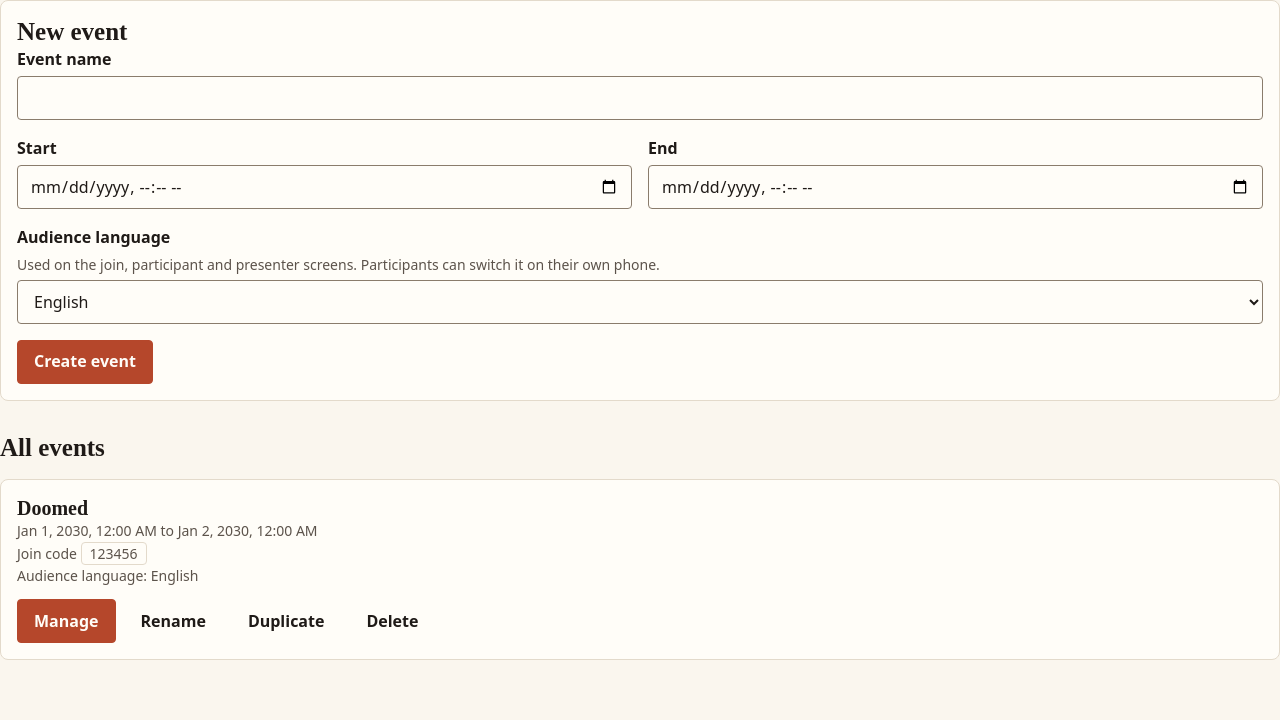
Test: EventManager › keeps the dialog open and shows the server error when the delete fails
Click the button "Delete".
click(392, 621)  # box [349,599,435,643]
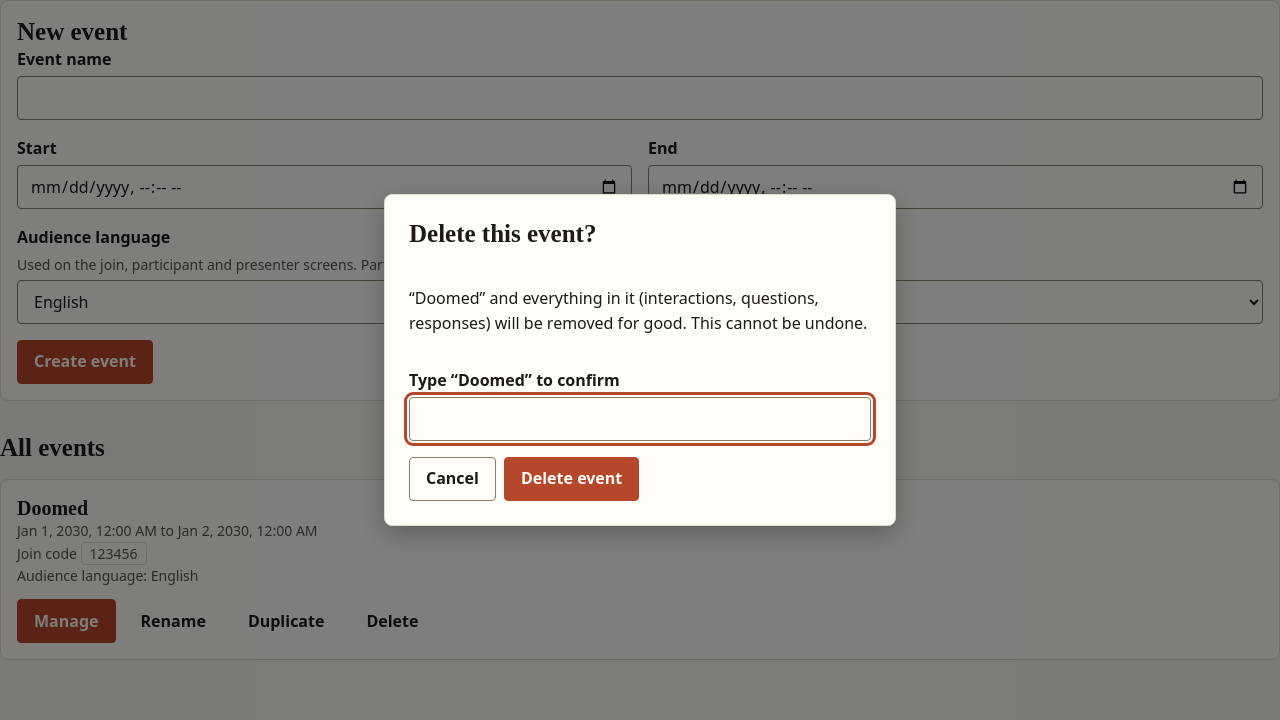
Type "Doomed" into the field labelled "Type “Doomed” to confirm".
click(640, 419); type("Doomed")  # box [409,397,871,441]
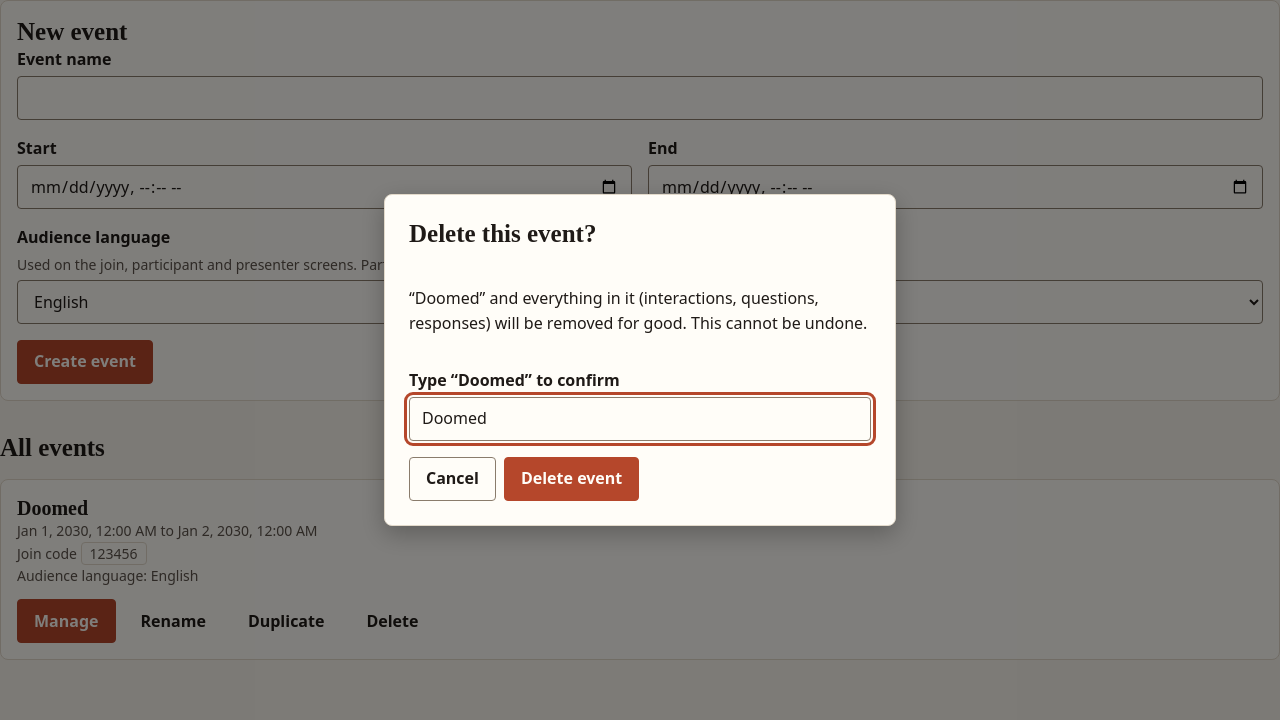
Click the button "Delete event".
click(572, 479)  # box [504,457,639,501]
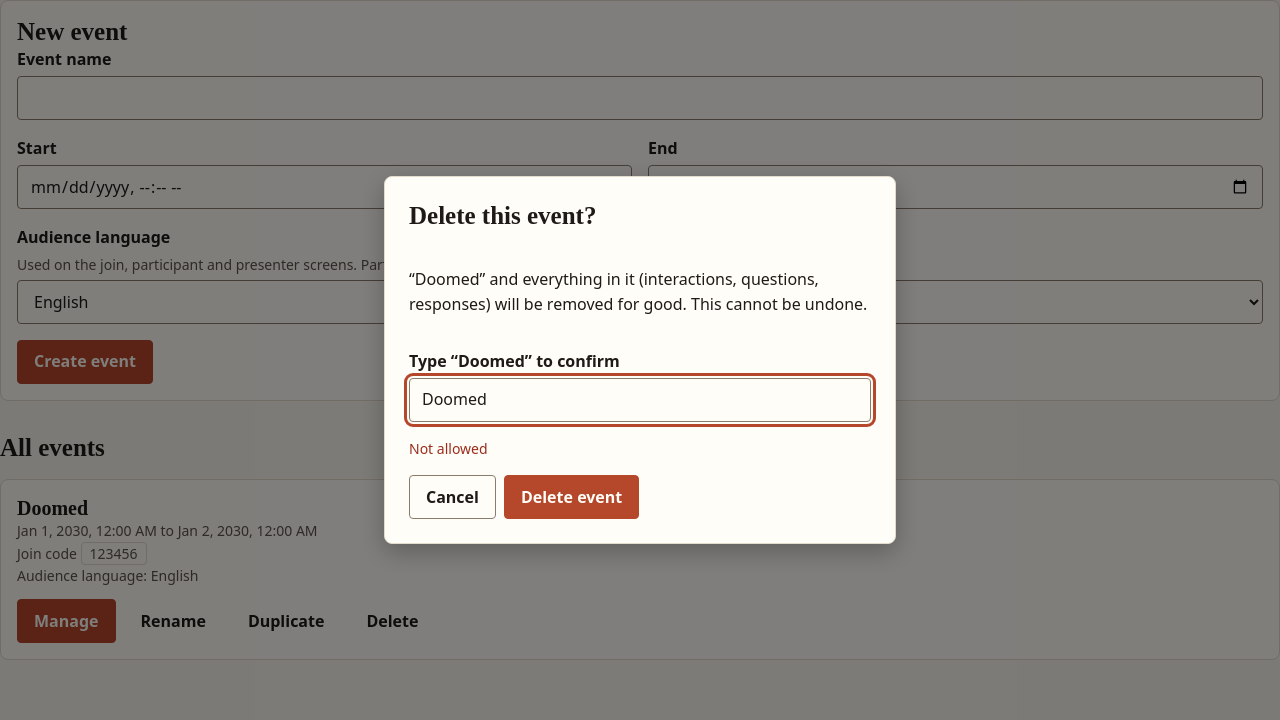
Expected: the heading "Doomed" is shown, [17,497,88,519]
Now the dialog is shown, box [384,176,896,544]
Now the message reads "Not allowed", box [409,439,488,458]
